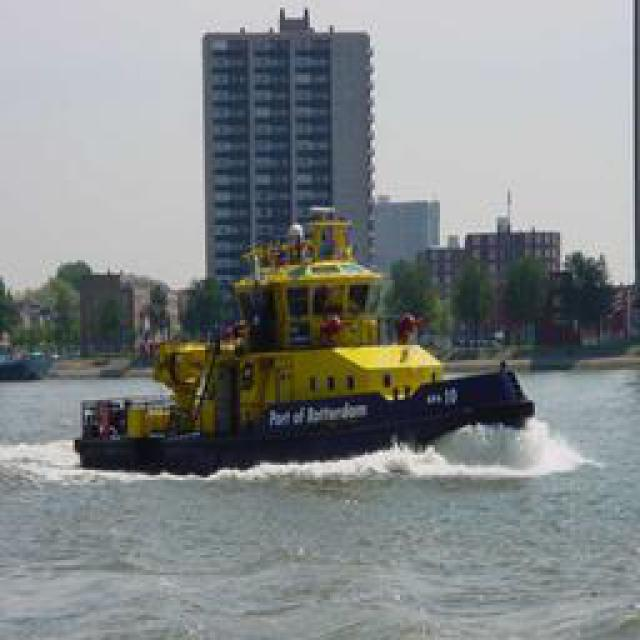Ship: (75, 218, 545, 473)
